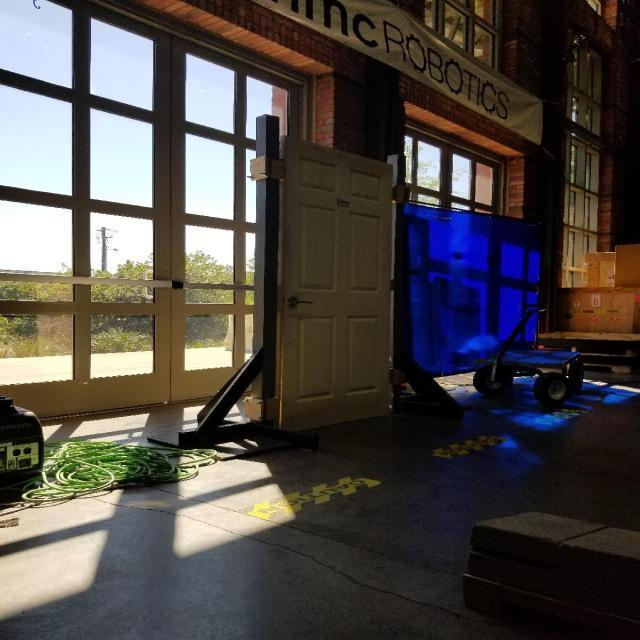door: (276, 134, 394, 438), (285, 297, 314, 309)
